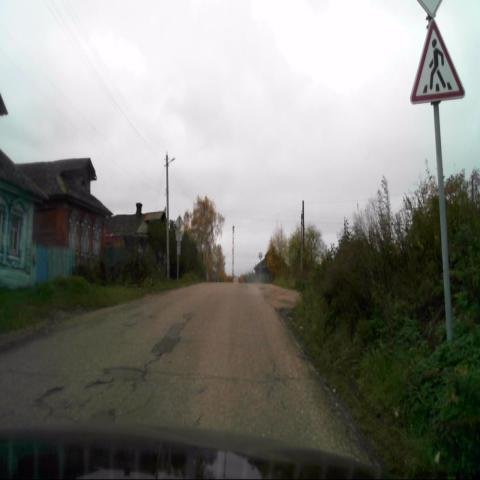1_22: (410, 18, 466, 104)
